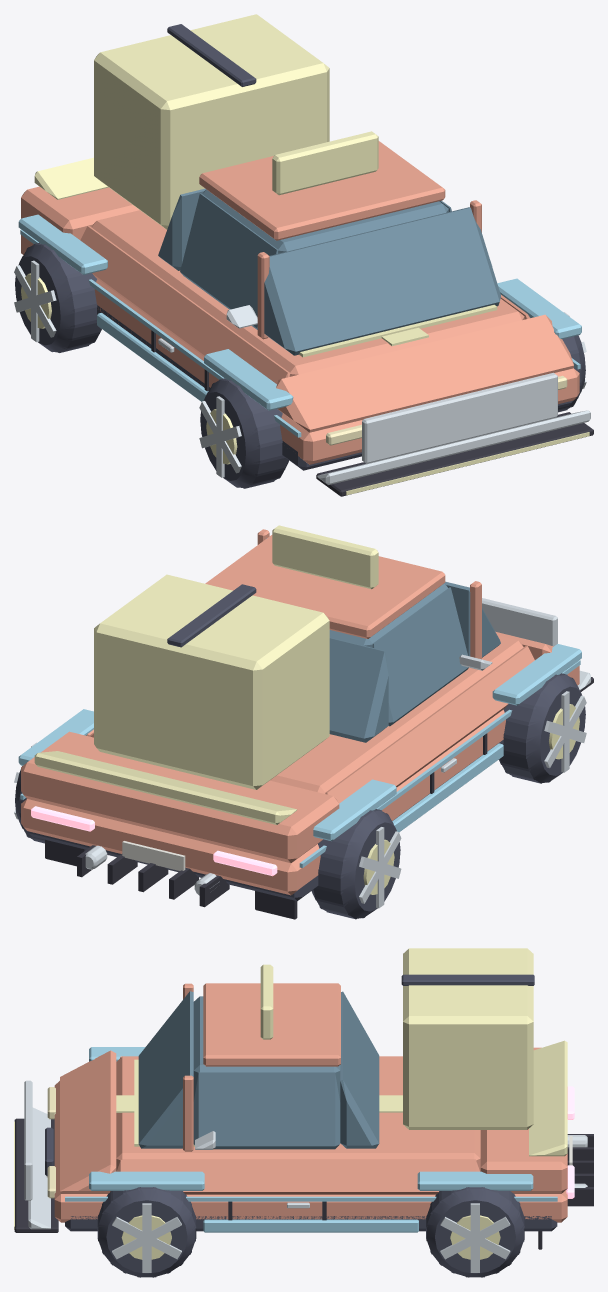
File: alley_courier.fbx
The picture shows the model from 3 angles, top to bottom: view 1: azimuth 30°, elevation 25°; view 2: azimuth 150°, elevation 25°; view 3: azimuth 270°, elevation 25°; orthographic projection. The views are drawn at different scales.
Parts seen in each view (by area): view 1: Body, Accent2, Glass, Metal, Accent, Light, Wheel_FR, Wheel_RR, Accent3, Trim, Trim2, Metal2 (+1 smaller); view 2: Body, Accent2, Glass, Accent, Metal, Wheel_RR, Wheel_FR, Light, Trim, Trim2, Light3, Accent4 (+2 smaller); view 3: Body, Accent2, Glass, Accent, Metal, Wheel_FL, Wheel_RL, Trim2, Trim, Accent3, Light, Metal2 (+2 smaller).
Boxes of the visible parts, left/top/right/bottom form: Body: left=21, top=141, right=579, bottom=464; Accent2: left=34, top=14, right=497, bottom=357; Glass: left=158, top=188, right=500, bottom=355; Metal: left=14, top=260, right=586, bottom=477; Accent: left=18, top=214, right=581, bottom=437; Light: left=272, top=131, right=589, bottom=495; Wheel_FR: left=200, top=378, right=288, bottom=488; Wheel_RR: left=15, top=242, right=101, bottom=352; Accent3: left=226, top=261, right=590, bottom=484; Trim: left=151, top=330, right=593, bottom=496; Trim2: left=97, top=24, right=572, bottom=470; Metal2: left=21, top=273, right=237, bottom=464; Body: left=21, top=529, right=579, bottom=895; Accent2: left=34, top=574, right=329, bottom=824; Glass: left=266, top=538, right=500, bottom=742; Accent: left=18, top=644, right=581, bottom=867; Metal: left=14, top=598, right=586, bottom=908; Wheel_RR: left=311, top=809, right=400, bottom=919; Wheel_FR: left=499, top=673, right=585, bottom=783; Light: left=272, top=525, right=378, bottom=589; Trim: left=45, top=677, right=593, bottom=919; Trim2: left=28, top=584, right=503, bottom=901; Light3: left=31, top=806, right=277, bottom=876; Accent4: left=122, top=841, right=185, bottom=870; Body: left=54, top=983, right=567, bottom=1222; Accent2: left=134, top=948, right=567, bottom=1156; Glass: left=138, top=991, right=379, bottom=1149; Accent: left=65, top=1047, right=557, bottom=1232; Metal: left=24, top=1080, right=587, bottom=1272; Wheel_FL: left=97, top=1187, right=196, bottom=1277; Wheel_RL: left=426, top=1187, right=524, bottom=1277; Trim2: left=45, top=974, right=557, bottom=1231; Trim: left=14, top=1118, right=593, bottom=1249; Accent3: left=28, top=1107, right=215, bottom=1229; Light: left=14, top=964, right=402, bottom=1229; Metal2: left=121, top=1215, right=500, bottom=1259.
Size of the model in its own units: 3.4 by 2.43 by 5.54.
